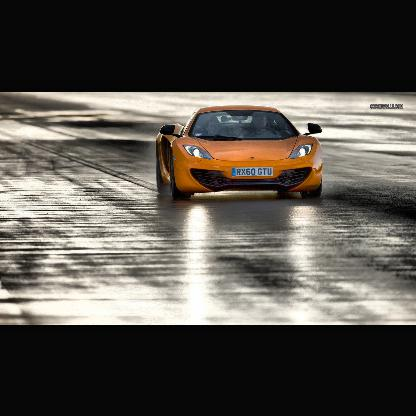McLaren MP4-12C Coupe 2012: (158, 105, 325, 201)
